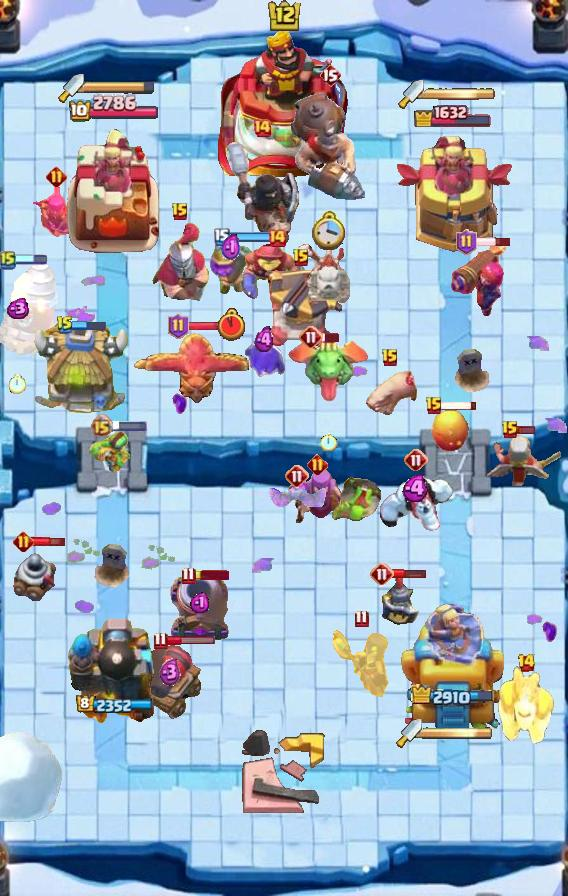bar: (391, 132, 515, 256), (398, 595, 508, 731), (64, 124, 164, 256)
bar-level: (328, 476, 382, 524)
barbarian: (266, 486, 328, 510)
bomb-tower: (208, 240, 254, 298)
electro-spirit: (401, 475, 430, 502), (159, 658, 181, 686), (221, 233, 241, 263), (254, 326, 275, 354), (4, 297, 30, 319), (191, 591, 210, 613)
electro-wizard: (287, 340, 371, 402)
elixir: (312, 209, 348, 250), (219, 308, 246, 340), (9, 374, 27, 394), (321, 433, 337, 451)
elixir-golem-small: (495, 666, 557, 746)
emote: (186, 320, 238, 331), (164, 635, 216, 646), (228, 232, 280, 242), (30, 536, 66, 549), (475, 236, 512, 248), (441, 400, 478, 412), (392, 568, 428, 580), (73, 319, 108, 331), (12, 255, 48, 266), (110, 421, 148, 431), (193, 570, 229, 580), (321, 332, 341, 343), (516, 425, 535, 435)
evolution-symbol: (33, 181, 79, 251)
fireball: (239, 240, 315, 302)
giant: (361, 369, 419, 419)
giant-snowball: (89, 430, 137, 474)
goblin-cage: (167, 573, 231, 643)
goblin-drill: (13, 547, 59, 601)
hog: (430, 409, 470, 453)
inferno-dragon: (221, 139, 303, 249)
king-tower: (218, 27, 350, 181)
king-tower-bar: (84, 80, 156, 94), (424, 87, 496, 101), (422, 726, 492, 740)
lava-pup: (260, 270, 342, 350)
magic-archer: (0, 264, 60, 356)
mega-minion: (449, 238, 509, 318)
mini-pekka: (296, 238, 356, 306)
mother-witch: (133, 330, 249, 406)
poison: (478, 428, 564, 500)
prince: (29, 323, 131, 419)
princess: (372, 571, 422, 629)
rage: (377, 474, 455, 534)
rascal-boy: (330, 628, 392, 700)
rascal-girl: (285, 469, 349, 527)
royal-giant-evolution: (136, 645, 204, 719)
selected: (68, 94, 160, 124), (412, 684, 497, 709), (413, 101, 493, 126), (75, 695, 152, 715)
spear-goblin: (243, 340, 285, 380)
text: (299, 325, 323, 349), (404, 448, 428, 472), (285, 464, 309, 488), (370, 562, 394, 586), (456, 229, 477, 255), (167, 313, 188, 339), (90, 414, 113, 437), (319, 63, 341, 87), (307, 453, 328, 475), (46, 166, 67, 187), (14, 532, 35, 553), (252, 118, 272, 138), (267, 228, 287, 248), (516, 653, 535, 673), (171, 202, 189, 222), (292, 248, 310, 268), (56, 315, 74, 335), (381, 348, 399, 368), (425, 396, 443, 416), (501, 420, 519, 440), (0, 250, 16, 270), (214, 228, 230, 246), (153, 631, 167, 650), (181, 567, 195, 585), (355, 609, 369, 627)
tower-bar: (67, 611, 161, 731)
wall-breaker: (0, 728, 64, 823)
wall-breaker-evolution: (150, 223, 210, 303)
wizard: (290, 91, 370, 201)
